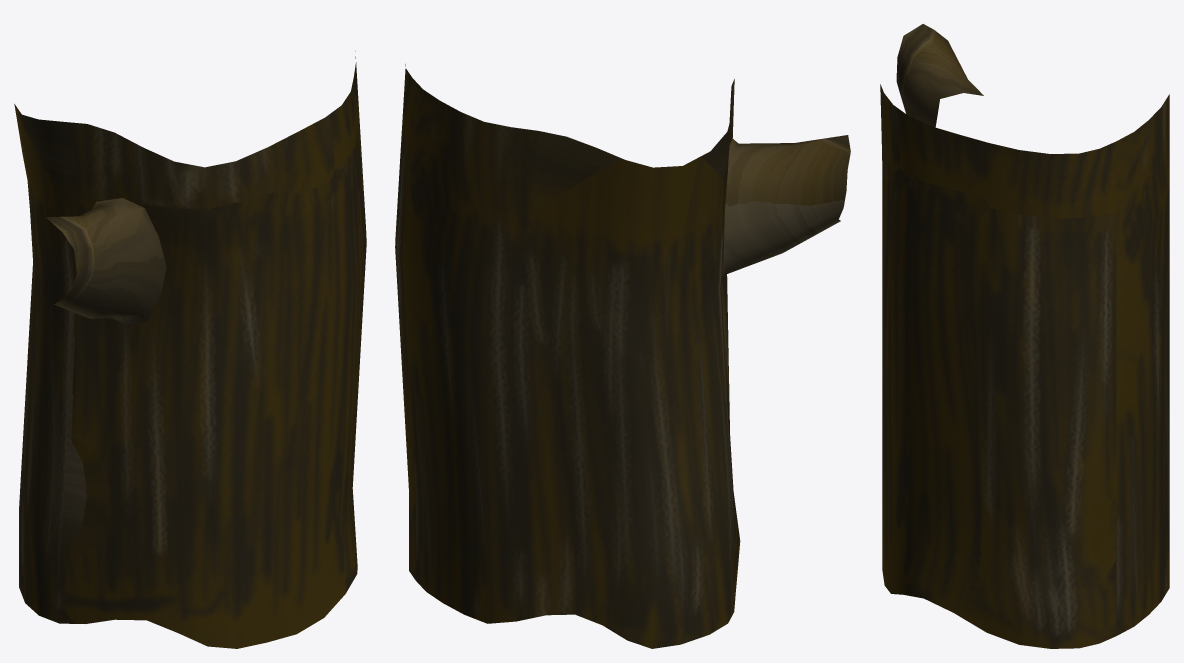
The model's file is tronco_cerrado.glb.
3 renders of one model, left to right at view 1: azimuth 30°, elevation 25°; view 2: azimuth 150°, elevation 25°; view 3: azimuth 270°, elevation 25°, orthographic.
Visible parts, largest first — view 1: tronco.001; view 2: tronco.001; view 3: tronco.001.
Part boxes in pixels (<box>): tronco.001: <box>14,51,366,648</box>; tronco.001: <box>395,64,850,648</box>; tronco.001: <box>880,24,1169,648</box>.
Bounding box in the file's own units: 3.44 × 4.25 × 2.25.
Materials: 1 (1 with a texture image).
